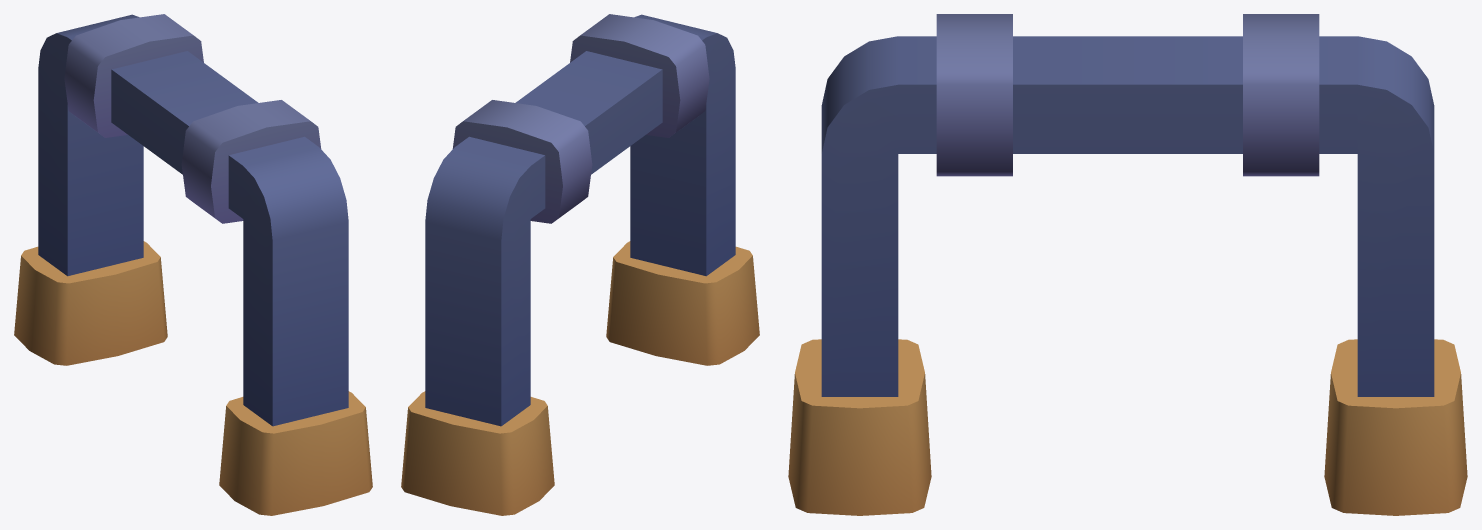
The model's file is scanner-high.glb.
3 views of the same model, side by side, from view 1: azimuth 30°, elevation 25°; view 2: azimuth 150°, elevation 25°; view 3: azimuth 270°, elevation 25° (orthographic). The views are drawn at different scales.
Visible parts, largest first — view 1: scanner-high; view 2: scanner-high; view 3: scanner-high.
Boxes of the visible parts, x1,y1,x2,y2 form: scanner-high: [14, 14, 372, 515]; scanner-high: [401, 14, 759, 515]; scanner-high: [788, 14, 1467, 515].
Bounding box in the file's own units: 0.484 × 1.27 × 1.77.
